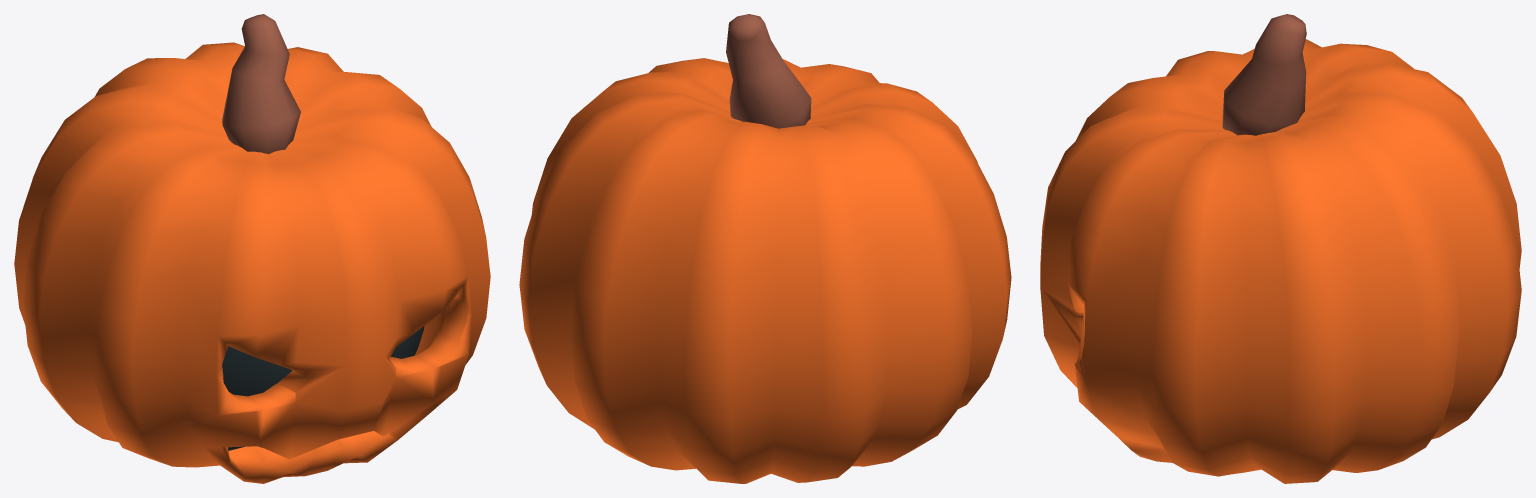
Rendered from pumpkin_head.glb.
The picture shows the model from 3 angles, left to right: view 1: azimuth 30°, elevation 25°; view 2: azimuth 150°, elevation 25°; view 3: azimuth 270°, elevation 25°; orthographic projection. The views are drawn at different scales.
Visible parts, largest first — view 1: character_jackHat, character_jackHead; view 2: character_jackHat; view 3: character_jackHat.
Part boxes in pixels (box(x1,y1,x2,y2)): character_jackHat: box(14, 14, 490, 483); character_jackHead: box(222, 326, 424, 450); character_jackHat: box(519, 14, 1011, 483); character_jackHat: box(1040, 14, 1521, 483).
Bounding box in the file's own units: 1.34 × 1.29 × 1.3.
